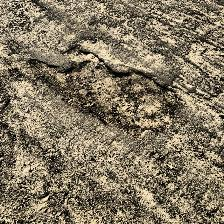pothole: (25, 47, 186, 139)
